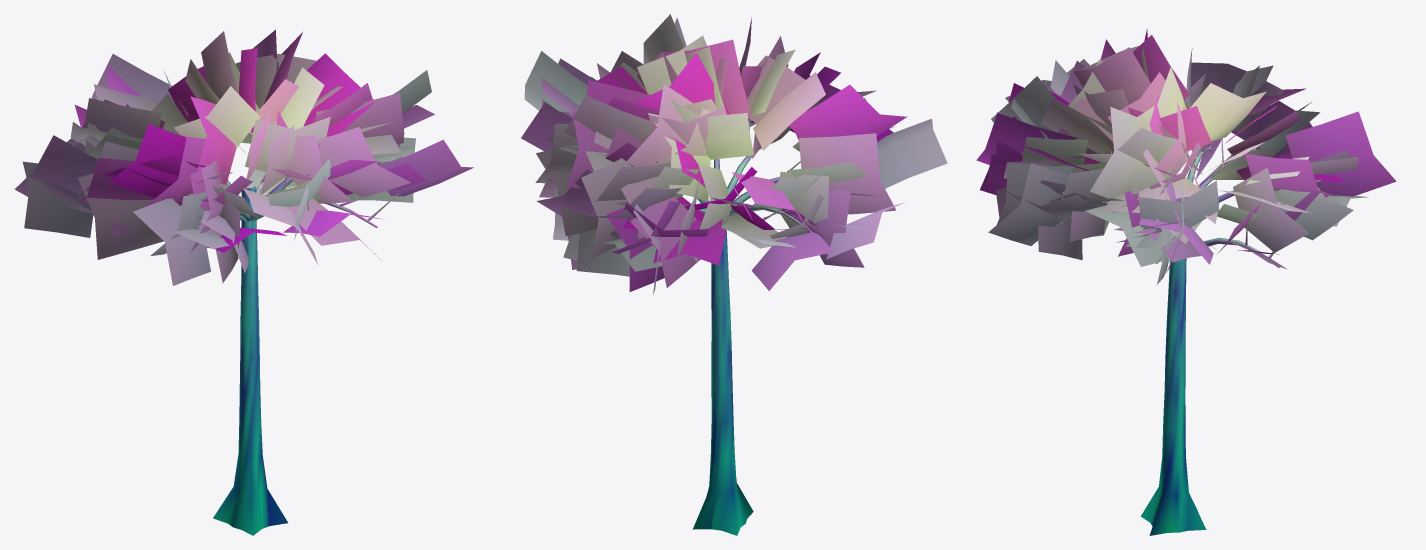
File: dschungelbaum.glb
3 renders of one model, left to right at view 1: azimuth 30°, elevation 25°; view 2: azimuth 150°, elevation 25°; view 3: azimuth 270°, elevation 25°, orthographic. The views are drawn at different scales.
Parts seen in each view (by area): view 1: dschungelbaum_lod0; view 2: dschungelbaum_lod0; view 3: dschungelbaum_lod0.
Part boxes in pixels (bbox=[...]): dschungelbaum_lod0: bbox=[14, 29, 473, 535]; dschungelbaum_lod0: bbox=[521, 14, 947, 535]; dschungelbaum_lod0: bbox=[976, 28, 1396, 535].
Size of what is drawn, in the model's own units: 15.4 by 16.92 by 14.2.
